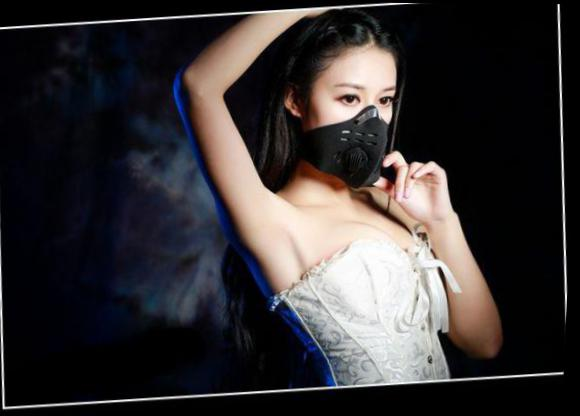WRONG: (297, 77, 406, 183)
